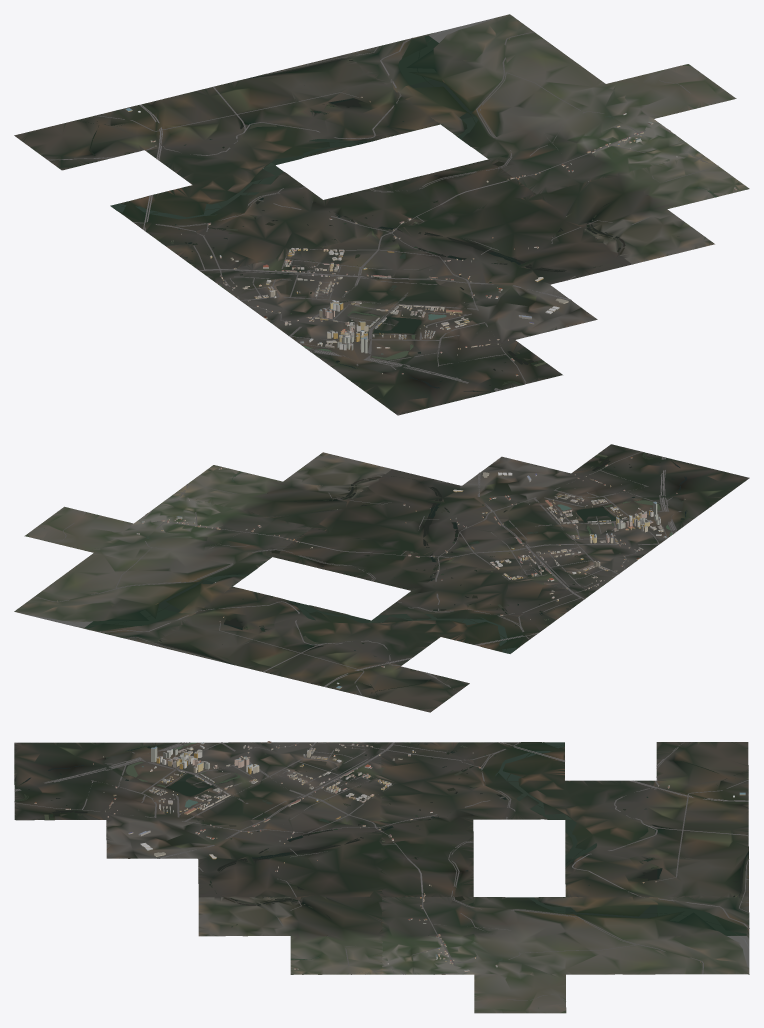
3 renders of one model, top to bottom at view 1: azimuth 30°, elevation 25°; view 2: azimuth 150°, elevation 25°; view 3: azimuth 270°, elevation 25°, orthographic. The views are drawn at different scales.
Parts seen in each view (by area): view 1: ground, roads, water, buildings; view 2: ground, roads, water, buildings; view 3: ground, roads, water, buildings.
Part boxes in pixels (bbox=[...]): ground: bbox=[14, 14, 749, 415]; roads: bbox=[48, 31, 717, 414]; water: bbox=[83, 17, 717, 395]; buildings: bbox=[125, 38, 736, 376]; ground: bbox=[14, 444, 749, 712]; roads: bbox=[34, 452, 748, 695]; water: bbox=[27, 452, 687, 697]; buildings: bbox=[57, 457, 685, 689]; ground: bbox=[14, 742, 749, 1013]; roads: bbox=[14, 742, 749, 1001]; water: bbox=[14, 742, 749, 1008]; buildings: bbox=[34, 741, 745, 971].
Bounding box in the file's own units: 9812 × 232 × 11244.
